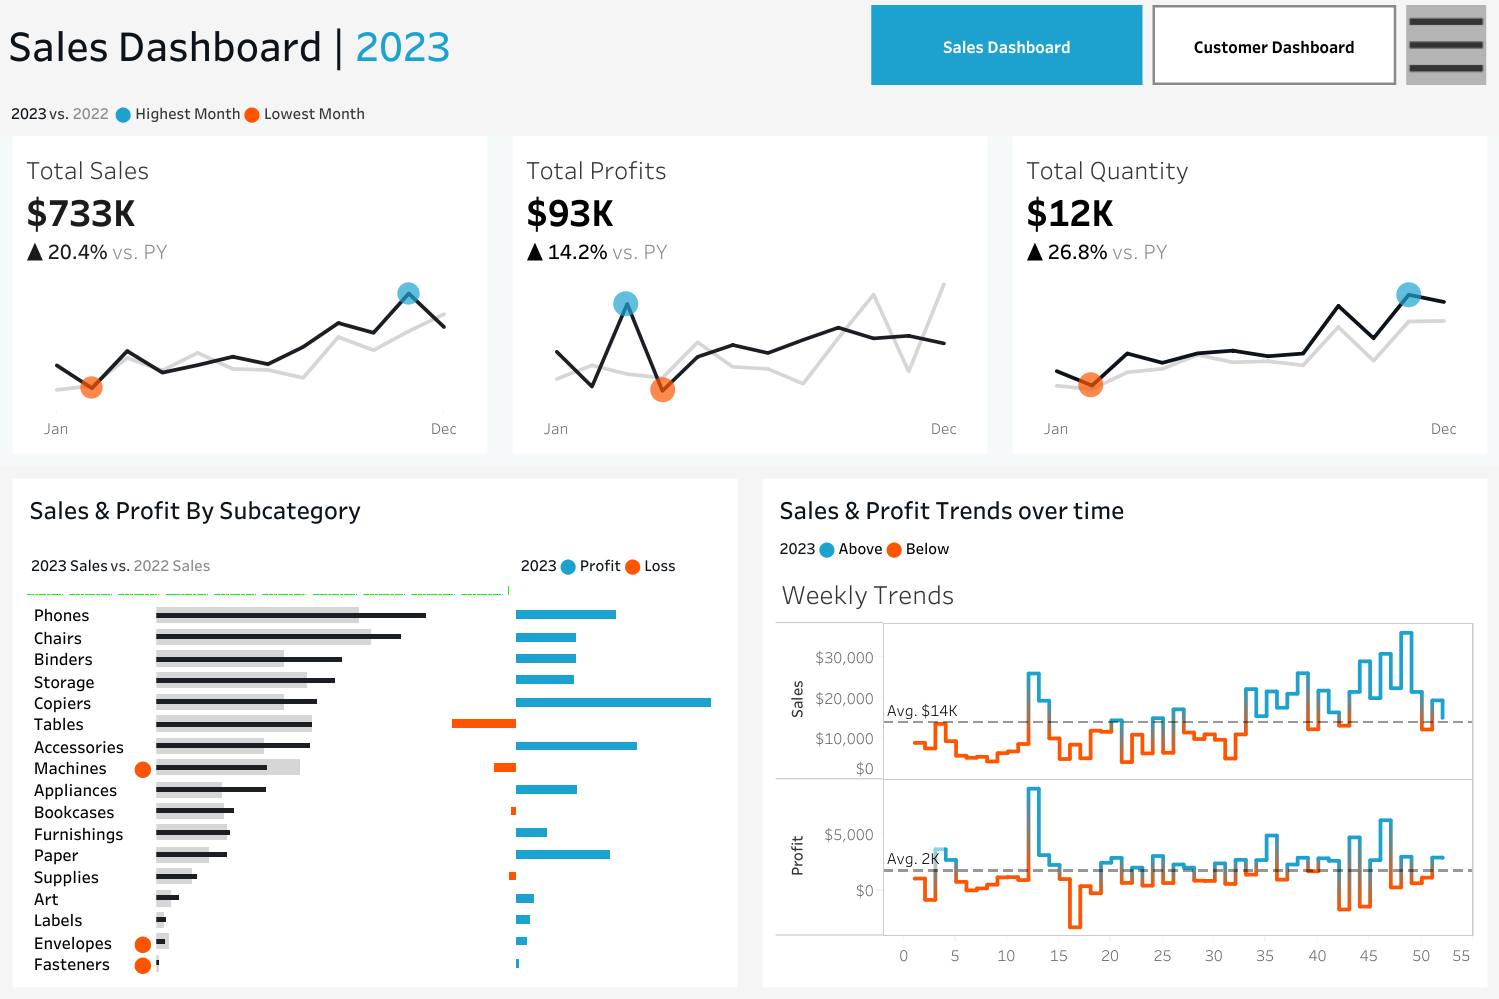

This screenshot's page, from the dashboard's own definition file:
{"tool":"tableau","page":{"name":"Sales Dashboard","canvas":[1200,800],"ordinal":1},"visuals":[{"type":"text","box":[0,0,693,72]},{"type":"dashboard-object","box":[693,0,225,72]},{"type":"dashboard-object","box":[918,0,203,72]},{"type":"dashboard-object","box":[1121,0,72,72]},{"type":"worksheet","title":"Legend of KPI","mark":"Automatic","box":[0,72,1200,37]},{"type":"worksheet","title":"KPI Sales","mark":"Automatic","rows":["Calculation_1762033377647333381"],"cols":["Order Date"],"box":[0,109,400,264]},{"type":"worksheet","title":"KPI Profit","mark":"Line","rows":["Calculation_505810557281783816"],"cols":["Order Date"],"box":[400,109,400,264]},{"type":"worksheet","title":"KPI Quantity","mark":"Automatic","rows":["Calculation_505810557648142351"],"cols":["Order Date"],"box":[800,109,400,264]},{"type":"text","box":[984,117,205,40]},{"type":"blank","box":[984,157,205,42]},{"type":"parameter","param":"[Parameters].[Parameter 1]","box":[984,199,205,56]},{"type":"blank","box":[984,255,205,50]},{"type":"text","box":[984,305,205,33]},{"type":"filter","title":"KPI Sales","param":"[federated.1r7e4et1l0c9wc15lsfa010f3xph].[none:Category:nk]","box":[984,338,205,61]},{"type":"text","box":[17,390,566,40]},{"type":"text","box":[617,390,566,40]},{"type":"filter","title":"KPI Sales","param":"[federated.1r7e4et1l0c9wc15lsfa010f3xph].[none:Sub-Category:nk]","box":[984,399,205,61]},{"type":"worksheet","title":"Legend Subcatergory","mark":"Automatic","box":[17,430,393,54]},{"type":"text","box":[410,430,173,54]},{"type":"text","box":[617,430,566,29]},{"type":"worksheet","title":"Weekly Trends","mark":"Automatic","rows":["CY Sales (Current Year) (copy)_1762033377638604801","Calculation_505810556939120640"],"cols":["Order Date"],"box":[617,459,566,324]},{"type":"text","box":[984,460,205,33]},{"type":"worksheet","title":"Subcategory Comparisons","mark":"Bar","rows":["Sub-Category","Calculation_138204239390494720"],"cols":["Calculation_1762033377637462016","CY Sales (Current Year) (copy)_1762033377638604801","Calculation_505810556939120640"],"box":[17,484,566,298.9]},{"type":"filter","title":"KPI Sales","param":"[federated.1r7e4et1l0c9wc15lsfa010f3xph].[none:Region:nk]","box":[984,493,205,61]},{"type":"filter","title":"KPI Sales","param":"[federated.1r7e4et1l0c9wc15lsfa010f3xph].[none:State:nk]","box":[984,554,205,61]},{"type":"filter","title":"KPI Sales","param":"[federated.1r7e4et1l0c9wc15lsfa010f3xph].[none:City:nk]","box":[984,615,205,61]}]}

Visuals, with their boxes in screenshot pixels (x1, y1, x2, y2), scaled from the page's 1200x800 canvas onto the 1499x999 screenshot:
text: [0, 0, 866, 90]
dashboard-object: [866, 0, 1147, 90]
dashboard-object: [1147, 0, 1400, 90]
dashboard-object: [1400, 0, 1490, 90]
"Legend of KPI" worksheet: [0, 90, 1498, 136]
"KPI Sales" worksheet: [0, 136, 500, 466]
"KPI Profit" worksheet (Line marks): [500, 136, 999, 466]
"KPI Quantity" worksheet: [999, 136, 1498, 466]
text: [1229, 146, 1485, 196]
blank: [1229, 196, 1485, 249]
parameter: [1229, 249, 1485, 318]
blank: [1229, 318, 1485, 381]
text: [1229, 381, 1485, 422]
"KPI Sales" filter: [1229, 422, 1485, 498]
text: [21, 487, 728, 537]
text: [771, 487, 1478, 537]
"KPI Sales" filter: [1229, 498, 1485, 574]
"Legend Subcatergory" worksheet: [21, 537, 512, 604]
text: [512, 537, 728, 604]
text: [771, 537, 1478, 573]
"Weekly Trends" worksheet: [771, 573, 1478, 978]
text: [1229, 574, 1485, 616]
"Subcategory Comparisons" worksheet (Bar marks): [21, 604, 728, 978]
"KPI Sales" filter: [1229, 616, 1485, 692]
"KPI Sales" filter: [1229, 692, 1485, 768]
"KPI Sales" filter: [1229, 768, 1485, 844]
